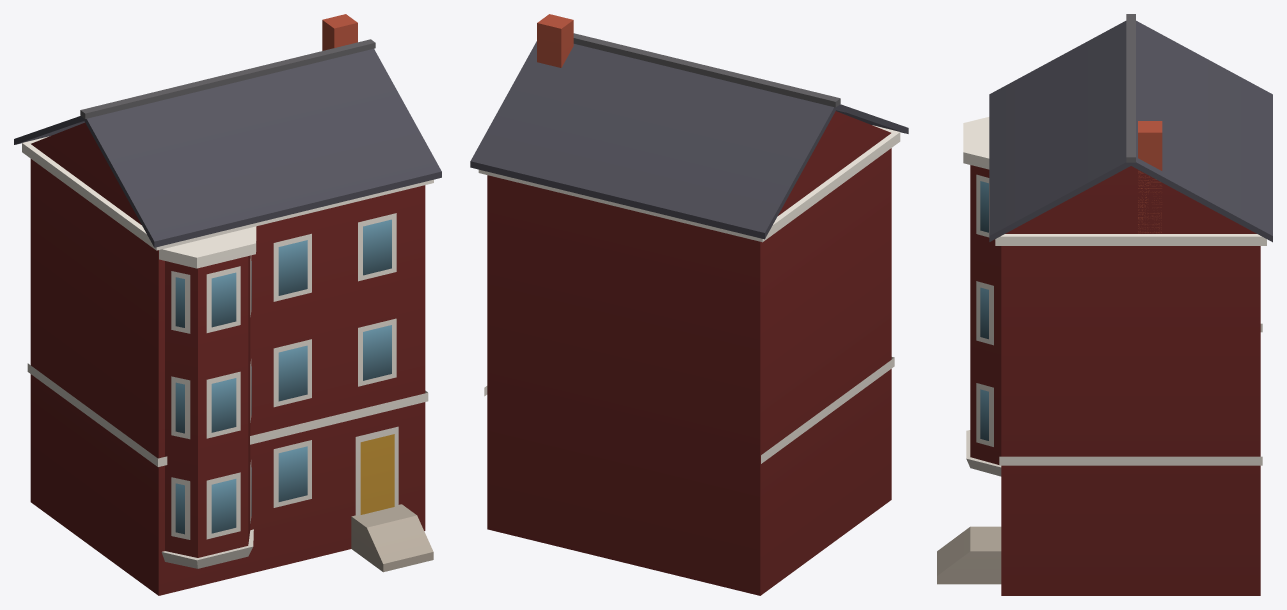
File: lane_w4_far.glb
The picture shows the model from 3 angles, left to right: view 1: azimuth 30°, elevation 25°; view 2: azimuth 150°, elevation 25°; view 3: azimuth 270°, elevation 25°; orthographic projection. The views are drawn at different scales.
Parts seen in each view (by area): view 1: lane_w4_far; view 2: lane_w4_far; view 3: lane_w4_far.
Boxes of the visible parts, x1,y1,x2,y2 form: lane_w4_far: [14, 14, 441, 595]; lane_w4_far: [470, 14, 908, 595]; lane_w4_far: [937, 14, 1272, 595].
Size of the model in its own units: 9.8 by 14.79 by 9.71.
Materials: 1 (1 with a texture image).
